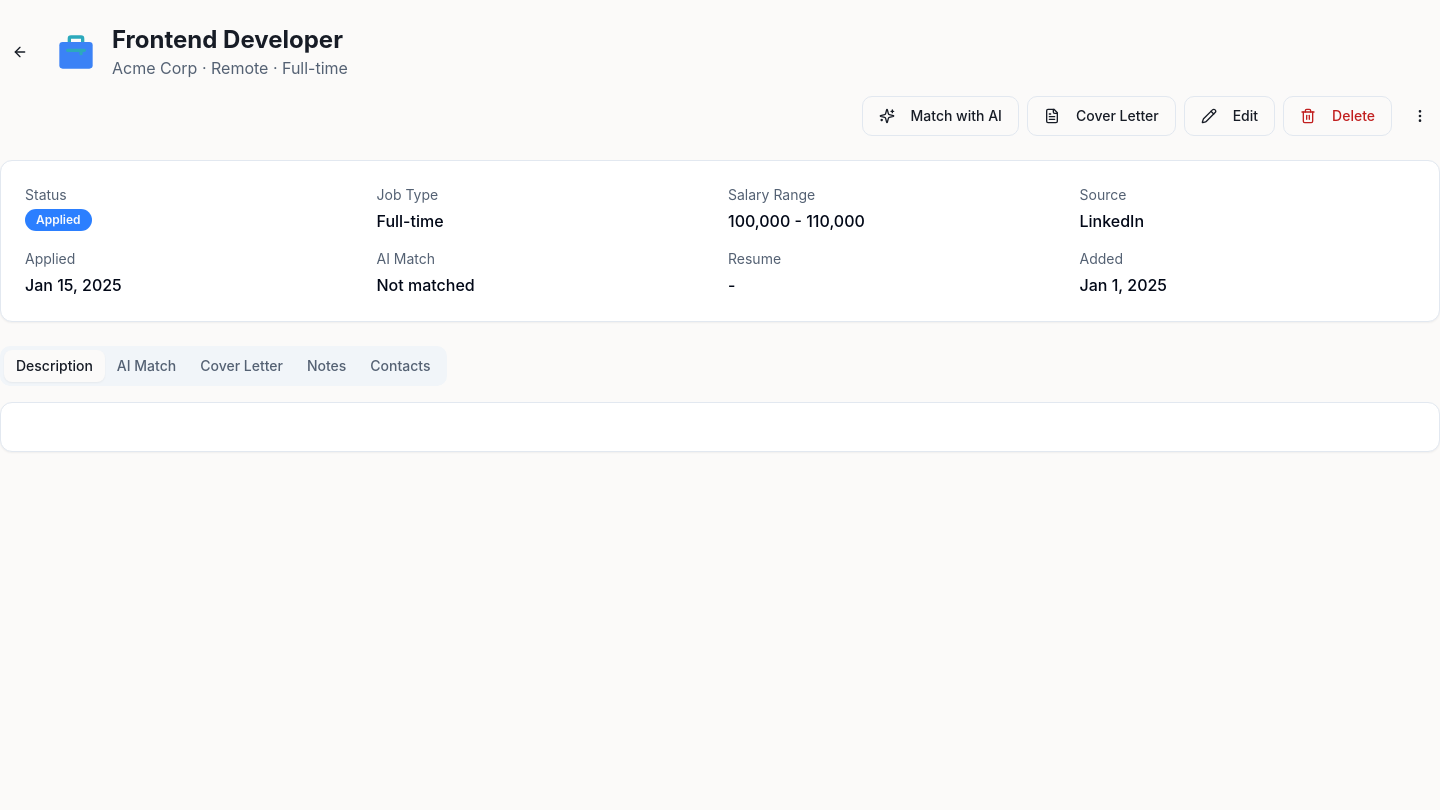
Test: JobDetails cover letter action › asks before clearing a conversation with a pending approval
Click the button with test id "generate-cover-letter-btn" at (1101, 116), box top-left (1027, 96), bottom-right (1176, 136)
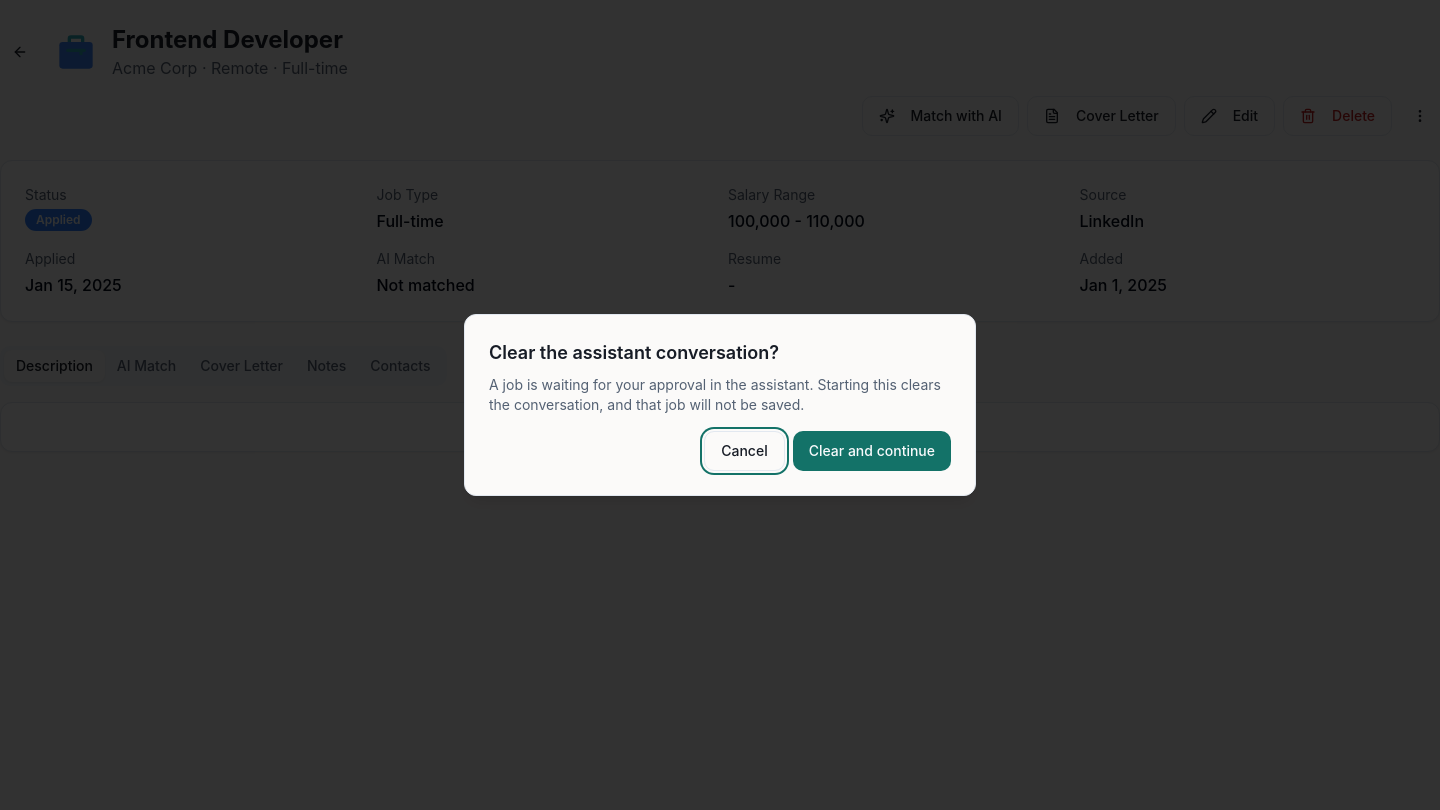
Expected: the heading "Clear the assistant conversation?" is shown, top-left (489, 342), bottom-right (779, 363)
